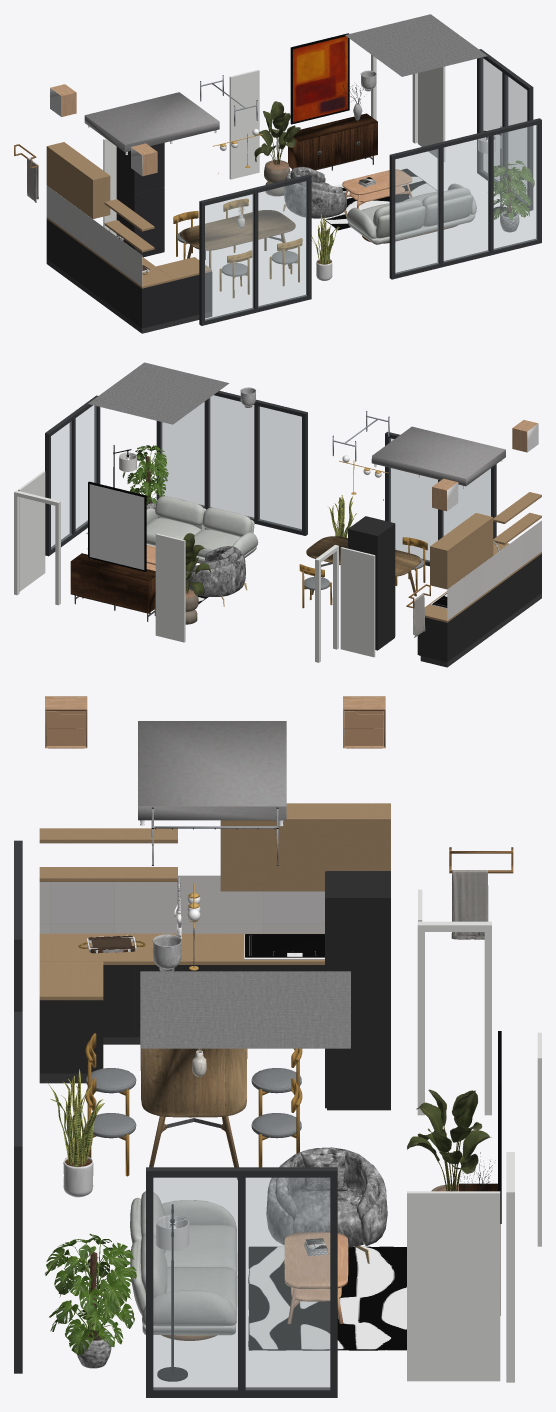
The model's file is test_obyv_A.glb.
3 renders of one model, top to bottom at view 1: azimuth 30°, elevation 25°; view 2: azimuth 150°, elevation 25°; view 3: azimuth 270°, elevation 25°, orthographic. The views are drawn at different scales.
Visible parts, largest first — view 1: D1_S_1.09_HS_glass, D1_S_1.08_glass, k_carcass_w, D1_S_1.09_HS_frame, bottom, Cube.010, Sofa frame, Painting, Buffet bazalt, D1_S_1.08_frame, D1_E_terrace_1.09_glass, k_upper (+27 smaller); view 2: D1_S_1.09_HS_glass, D1_S_1.08_glass, k_carcass_w, bottom, Cube.010, Sofa frame, D1_E_terrace_1.09_glass, Painting, d_1.06_leaf, Buffet bazalt, k_tall, k_upper (+20 smaller); view 3: D1_E_terrace_1.09_glass, d_1.01-1.09_leaf, bottom, Cube.010, k_backsplash, k_tall, Tapis 18, k_upper, Sofa frame, D1_E_terrace_1.09_frame, Armcahir, Cube.006 (+27 smaller).
Part boxes in pixels (<box>): D1_S_1.09_HS_glass: <box>395,125,537,273</box>; D1_S_1.08_glass: <box>205,181,306,320</box>; k_carcass_w: <box>46,219,170,328</box>; D1_S_1.09_HS_frame: <box>389,118,541,279</box>; bottom: <box>345,14,487,76</box>; Cube.010: <box>84,92,219,152</box>; Sofa frame: <box>346,183,476,244</box>; Painting: <box>293,36,347,122</box>; Buffet bazalt: <box>288,113,377,170</box>; D1_S_1.08_frame: <box>199,174,311,325</box>; D1_E_terrace_1.09_glass: <box>481,57,526,202</box>; k_upper: <box>46,142,110,218</box>; D1_S_1.09_HS_glass: <box>161,395,301,530</box>; D1_S_1.08_glass: <box>389,438,490,561</box>; k_carcass_w: <box>418,554,541,662</box>; bottom: <box>88,362,229,424</box>; Cube.010: <box>371,426,505,486</box>; Sofa frame: <box>146,496,258,562</box>; D1_E_terrace_1.09_glass: <box>51,405,96,548</box>; Painting: <box>89,484,144,569</box>; d_1.06_leaf: <box>340,547,375,657</box>; Buffet bazalt: <box>70,553,155,621</box>; k_tall: <box>348,516,394,650</box>; k_upper: <box>430,513,493,589</box>; D1_E_terrace_1.09_glass: <box>153,1178,329,1389</box>; d_1.01-1.09_leaf: <box>407,1191,500,1381</box>; bottom: <box>140,971,350,1048</box>; Cube.010: <box>138,721,286,820</box>; k_backsplash: <box>39,875,324,933</box>; k_tall: <box>327,871,390,1110</box>; Tapis 18: <box>248,1246,406,1350</box>; k_upper: <box>220,803,390,891</box>; Sofa frame: <box>130,1191,237,1335</box>; D1_E_terrace_1.09_frame: <box>146,1167,337,1397</box>; Armcahir: <box>266,1147,387,1263</box>; Cube.006: <box>140,1048,247,1117</box>.
Size of what is drawn, in the model's own units: 8.39 by 3.38 by 4.96.
Materials: 83 (55 with a texture image).
